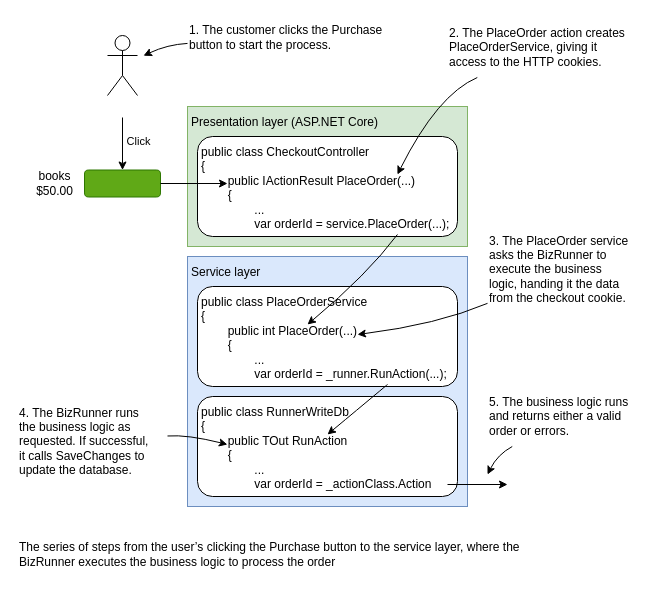
Some shapes in this 664 by 591 pixel diagram are drawn without their labels. Here are the shapes that lost their labels. From the top down, the centre of each, then its label:
At (x=122, y=65): "User".
At (x=122, y=183): "Purchase".
